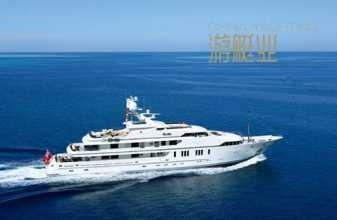yacht: (44, 90, 285, 181)
